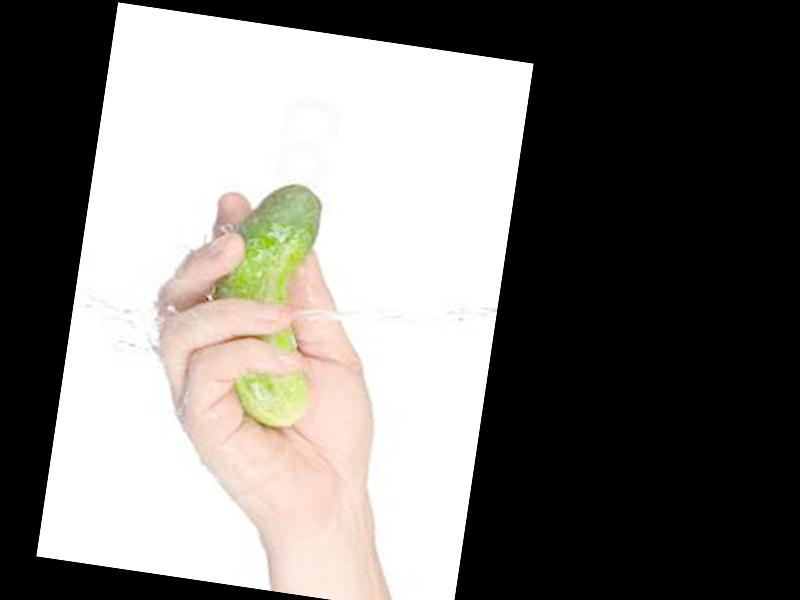Cucumber: (203, 174, 336, 428)
